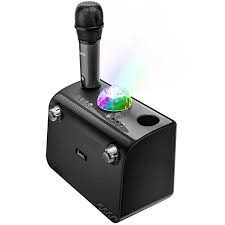microphone: (63, 1, 109, 89)
speaker: (42, 75, 179, 222)
